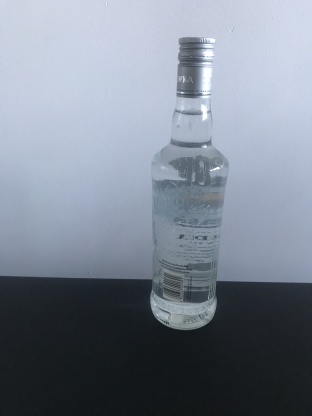nakretka: (174, 34, 216, 100)
